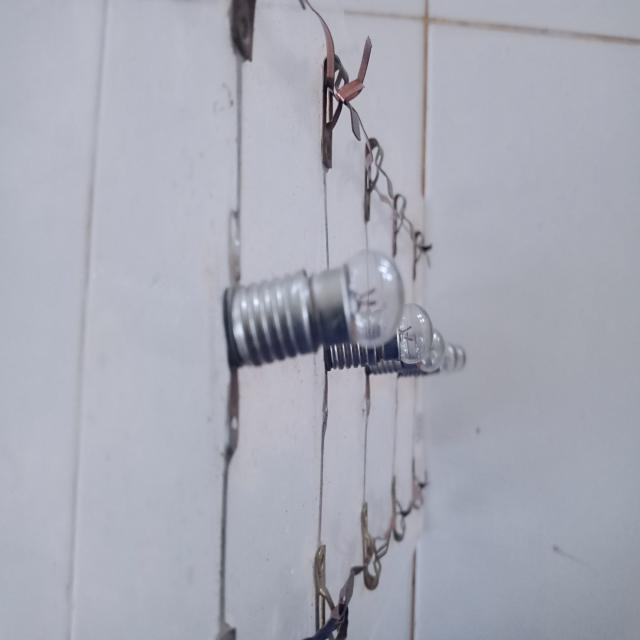Set of Resistors and Bulbs: (217, 16, 480, 615)
